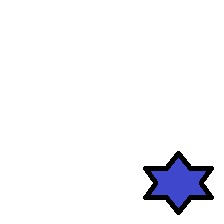star: (143, 151, 213, 215)
